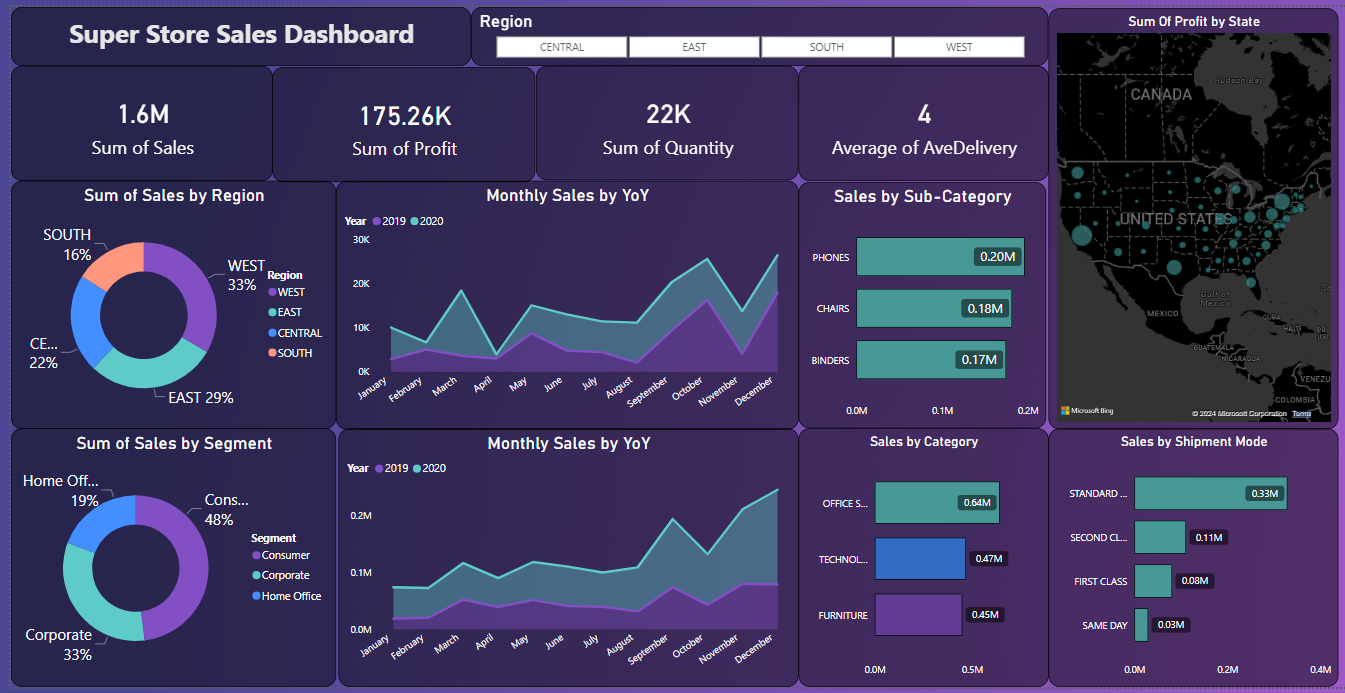

What the dashboard file says about the page in this screenshot:
{"tool":"powerbi","page":{"name":"Page 1","canvas":[1680,850],"ordinal":0},"visuals":[{"type":"barChart","title":"Sales by Category","fields":{"Y":["Sum(Superstore sales.Sales)"],"Category":["Superstore sales.Category"]},"box":[984.4,526.6,312.5,323.4],"z":0},{"type":"barChart","title":"Sales by Sub-Category","fields":{"Y":["Sum(Superstore sales.Sales)"],"Category":["Superstore sales.Sub-Category"]},"box":[984.4,218.8,309.4,307.8],"z":1000},{"type":"barChart","title":"Sales by Shipment Mode","fields":{"Y":["Sum(Superstore sales.Sales)"],"Category":["Superstore sales.Ship Mode"]},"box":[1296.9,526.6,362.5,323.4],"z":2000},{"type":"stackedAreaChart","title":"Monthly Sales by YoY","fields":{"Y":["Sum(Superstore sales.Sales)"],"Category":["Superstore sales.Order Date.Variation.Date Hierarchy.Month","Superstore sales.Order Date.Variation.Date Hierarchy.Day"],"Series":["Superstore sales.Order Date.Variation.Date Hierarchy.Year"]},"box":[409.4,526.6,575,323.4],"z":3000},{"type":"stackedAreaChart","title":"Monthly Sales by YoY","fields":{"Category":["Superstore sales.Order Date.Variation.Date Hierarchy.Month","Superstore sales.Order Date.Variation.Date Hierarchy.Day"],"Series":["Superstore sales.Order Date.Variation.Date Hierarchy.Year"],"Y":["Sum(Superstore sales.Profit)"]},"box":[406.2,217.2,578.1,310.9],"z":4000},{"type":"map","title":"Sum Of Profit by State","fields":{"Category":["Superstore sales.State"],"Size":["CountNonNull(Superstore sales.State)"]},"box":[1296.9,1.6,362.5,526.6],"z":5000},{"type":"donutChart","fields":{"Y":["Sum(Superstore sales.Sales)"],"Category":["Superstore sales.Segment"]},"box":[0,526.7,406.7,323.3],"z":6000},{"type":"donutChart","fields":{"Y":["Sum(Superstore sales.Sales)"],"Category":["Superstore sales.Region"]},"box":[0,216.7,406.7,310],"z":7000},{"type":"slicer","title":"Region","fields":{"Values":["Superstore sales.Region"]},"box":[575,0,721.9,73.4],"z":7001},{"type":"textbox","box":[0,0,575,73.3],"z":7002},{"type":"card","fields":{"Values":["Sum(Superstore sales.Profit)"]},"box":[327.3,74.2,328.8,143.9],"z":7003},{"type":"card","fields":{"Values":["Sum(Superstore sales.Sales)"]},"box":[0,72.7,327.3,143.9],"z":7004},{"type":"card","fields":{"Values":["Sum(Superstore sales.Quantity)"]},"box":[656.7,73.3,328.3,143.3],"z":7005},{"type":"card","fields":{"Values":["Avg(Superstore sales.AveDelivery)"]},"box":[984.4,73.4,312.5,143.8],"z":7006}]}

Visuals, with their boxes in screenshot pixels (x1, y1, x2, y2), scaled from the page's 1680x850 canvas onto the 1345x693 screenshot:
"Sales by Category" barChart: 788:429:1038:692
"Sales by Sub-Category" barChart: 788:178:1036:429
"Sales by Shipment Mode" barChart: 1038:429:1329:692
"Monthly Sales by YoY" stackedAreaChart: 328:429:788:692
"Monthly Sales by YoY" stackedAreaChart: 325:177:788:431
"Sum Of Profit by State" map: 1038:1:1329:431
donutChart - Sum(Superstore sales.Sales) x Superstore sales.Segment: 0:429:326:692
donutChart - Sum(Superstore sales.Sales) x Superstore sales.Region: 0:177:326:429
"Region" slicer: 460:0:1038:60
textbox: 0:0:460:60
card - Sum(Superstore sales.Profit): 262:60:525:178
card - Sum(Superstore sales.Sales): 0:59:262:177
card - Sum(Superstore sales.Quantity): 526:60:789:177
card - Avg(Superstore sales.AveDelivery): 788:60:1038:177
